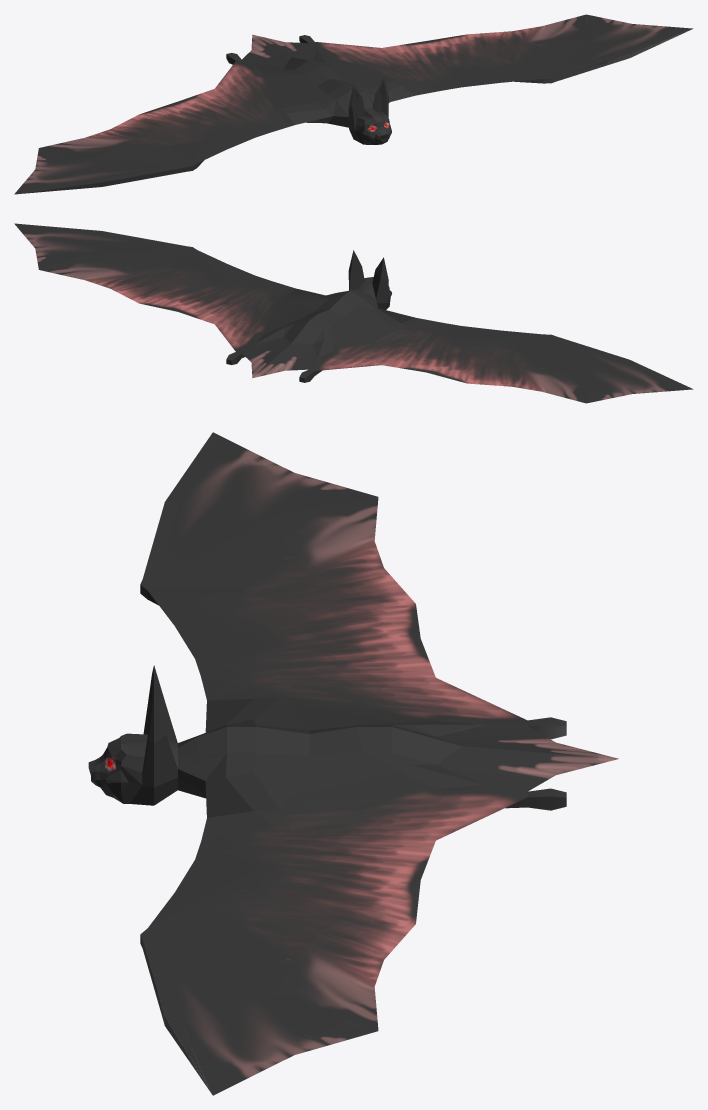
Rendered from bat-alldone.fbx.
3 views of the same model, one above another, from view 1: azimuth 30°, elevation 25°; view 2: azimuth 150°, elevation 25°; view 3: azimuth 270°, elevation 25° (orthographic). The views are drawn at different scales.
Parts seen in each view (by area): view 1: pCube3; view 2: pCube3; view 3: pCube3.
Boxes of the visible parts, bbox=[...] form: pCube3: bbox=[14, 14, 693, 194]; pCube3: bbox=[14, 223, 693, 403]; pCube3: bbox=[88, 432, 618, 1095].
Bounding box in the file's own units: 54.52 × 4.51 × 18.43.
